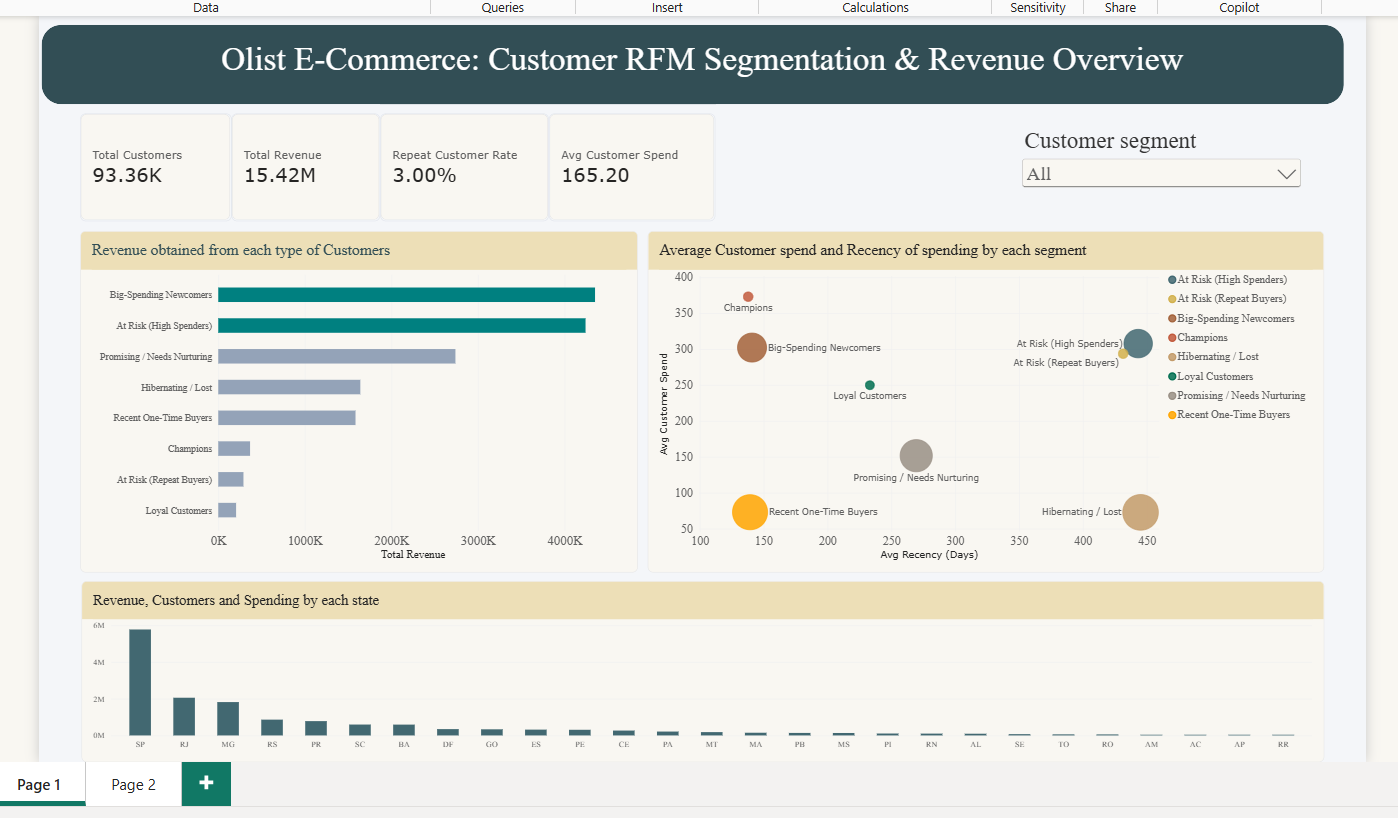

The dashboard page shown, as its layout file describes it:
{"tool":"powerbi","page":{"name":"Page 1","canvas":[1920,1080],"ordinal":0},"visuals":[{"type":"shape","box":[3.6,12.7,1885.4,115.3],"z":0},{"type":"textbox","box":[59.7,35,1801,70],"z":1000},{"type":"slicer","fields":{"Values":["Dim_Segments.customer_segment"]},"box":[1418.8,161.1,412.6,88.7],"z":2000},{"type":"cardVisual","fields":{"Data":["_Measures.Total Revenue"]},"box":[278.7,141.2,215.3,155.6],"z":3000},{"type":"cardVisual","fields":{"Data":["_Measures.Total Customers"]},"box":[59.7,141.2,219,155.6],"z":4000},{"type":"cardVisual","fields":{"Data":["_Measures.Repeat Customer Rate"]},"box":[494,141.2,244.3,155.6],"z":5000},{"type":"cardVisual","fields":{"Data":["_Measures.Avg Customer Spend"]},"box":[738.3,141.2,240.7,155.6],"z":6000},{"type":"clusteredBarChart","title":"Revenue obtained  from each type of Customers","fields":{"Category":["Dim_Segments.customer_segment"],"Y":["_Measures.Total Revenue"]},"box":[59.7,311.3,807.1,494],"z":7000},{"type":"scatterChart","title":"Average Customer spend and Recency of spending by each segment","fields":{"Category":["Dim_Segments.customer_segment"],"Series":["Dim_Segments.customer_segment"],"Size":["_Measures.Total Customers"],"X":["_Measures.Avg Recency (Days)"],"Y":["_Measures.Avg Customer Spend"]},"box":[881.3,311.3,979,494],"z":8000},{"type":"clusteredColumnChart","title":"Revenue, Customers and Spending by each state","fields":{"Category":["fact_customer_rfm.customer_state"],"Y":["_Measures.Total Revenue"]},"box":[61.5,818,1798.8,262.4],"z":9000}]}

Visuals, with their boxes on the page's 1920x1080 design canvas (x1, y1, x2, y2). These are canvas units, not pixel positions in the 1398x818 screenshot, which may show the page scaled, cropped or inside an application window:
shape: {"left": 4, "top": 13, "right": 1889, "bottom": 128}
textbox: {"left": 60, "top": 35, "right": 1861, "bottom": 105}
slicer - Dim_Segments.customer_segment: {"left": 1419, "top": 161, "right": 1831, "bottom": 250}
cardVisual - _Measures.Total Revenue: {"left": 279, "top": 141, "right": 494, "bottom": 297}
cardVisual - _Measures.Total Customers: {"left": 60, "top": 141, "right": 279, "bottom": 297}
cardVisual - _Measures.Repeat Customer Rate: {"left": 494, "top": 141, "right": 738, "bottom": 297}
cardVisual - _Measures.Avg Customer Spend: {"left": 738, "top": 141, "right": 979, "bottom": 297}
"Revenue obtained  from each type of Customers" clusteredBarChart: {"left": 60, "top": 311, "right": 867, "bottom": 805}
"Average Customer spend and Recency of spending by each segment" scatterChart: {"left": 881, "top": 311, "right": 1860, "bottom": 805}
"Revenue, Customers and Spending by each state" clusteredColumnChart: {"left": 62, "top": 818, "right": 1860, "bottom": 1080}
